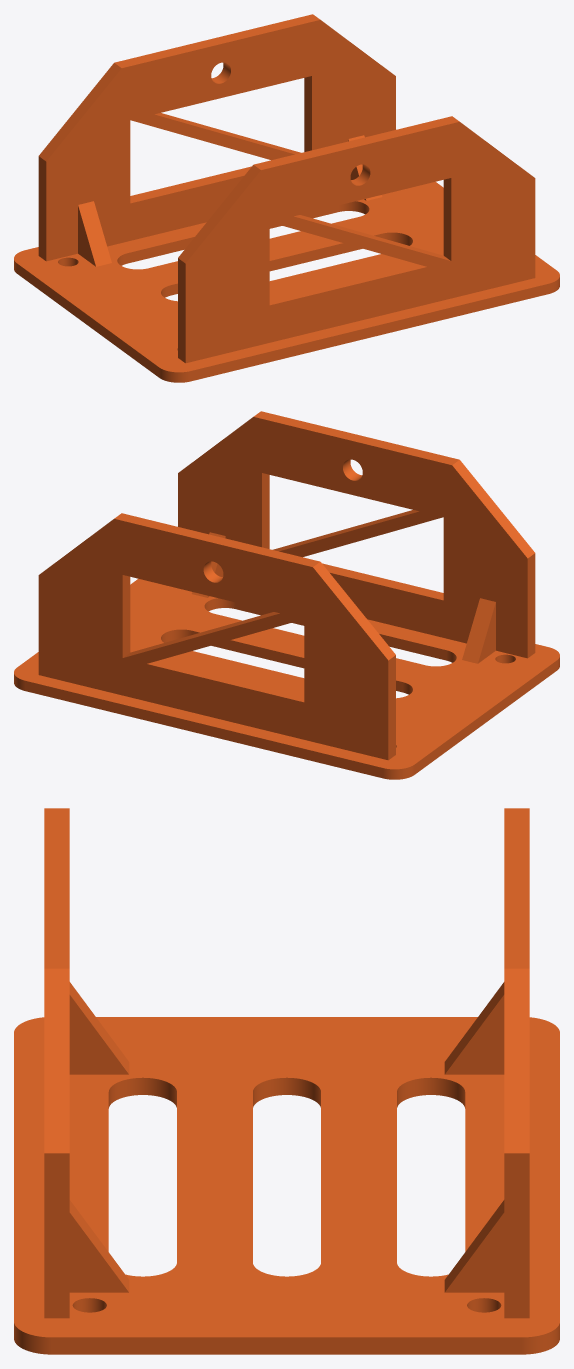
The picture shows the model from 3 angles, top to bottom: view 1: azimuth 30°, elevation 25°; view 2: azimuth 150°, elevation 25°; view 3: azimuth 270°, elevation 25°; orthographic projection. The views are drawn at different scales.
Parts seen in each view (by area): view 1: cradle_0; view 2: cradle_0; view 3: cradle_0.
Part boxes in pixels (left/top/right/bottom): cradle_0: left=14, top=14, right=559, bottom=382; cradle_0: left=14, top=411, right=559, bottom=779; cradle_0: left=14, top=808, right=559, bottom=1354.
Size of the model in its own units: 100 by 44.5 by 72.
